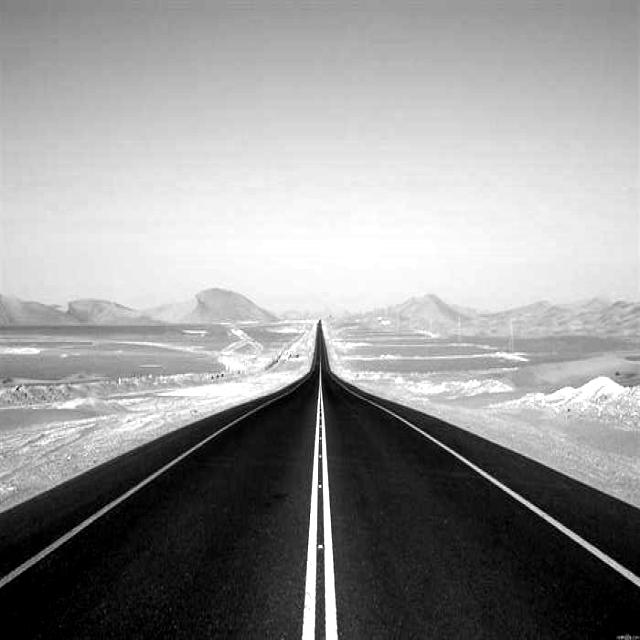cleat: (174, 226, 640, 640)
